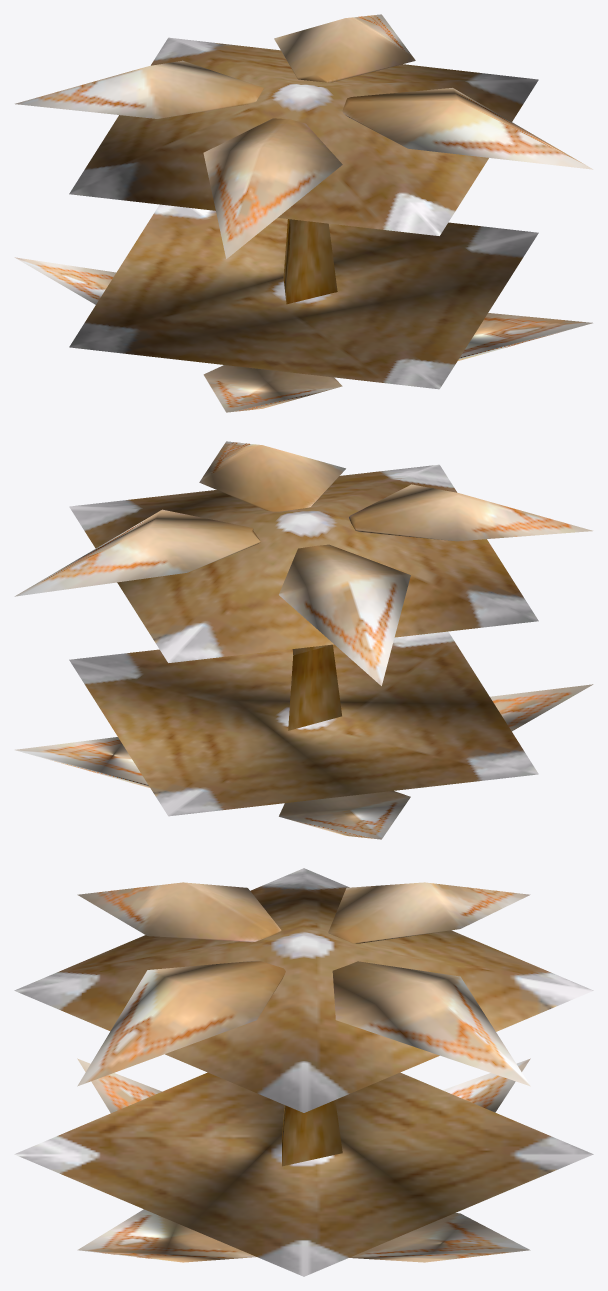
Rendered from item_weayoycleepe.glb.
The picture shows the model from 3 angles, top to bottom: view 1: azimuth 30°, elevation 25°; view 2: azimuth 150°, elevation 25°; view 3: azimuth 270°, elevation 25°; orthographic projection. The views are drawn at different scales.
Visible parts, largest first — view 1: item_0; view 2: item_0; view 3: item_0.
Boxes of the visible parts, x1,y1,x2,y2 form: item_0: (14, 14, 593, 412); item_0: (14, 441, 593, 839); item_0: (14, 868, 593, 1276).
Size of the model in its own units: 0.4561 by 0.2412 by 0.4561.
Materials: 1 (1 with a texture image).
